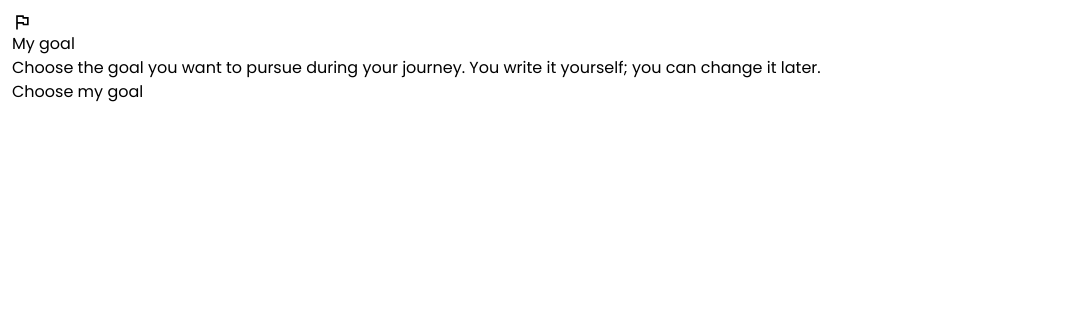
Test case: Carte Mon objectif › échec d’enregistrement : message clair
The image size is (1084, 319).
Click the button "Choose my goal" at (78, 92), box [12, 80, 143, 104]
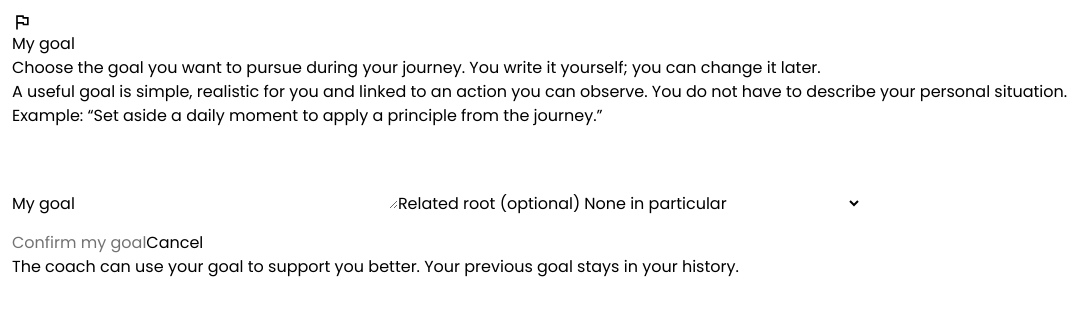
Type "Read every morning" into the text box labelled "My goal" at (236, 168), box [75, 128, 398, 209]
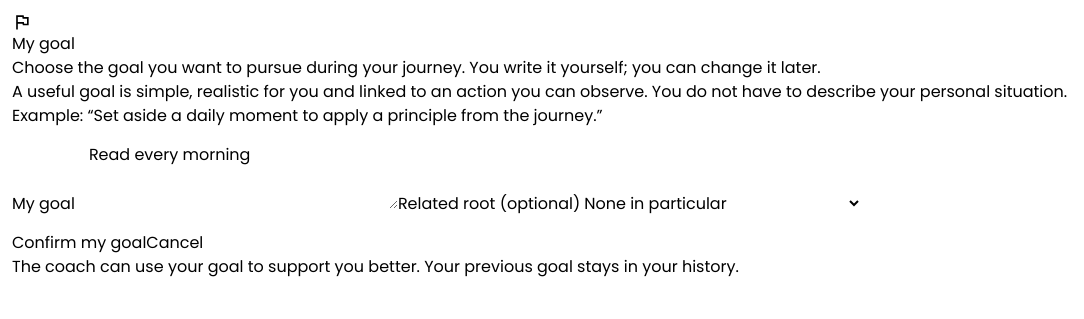
Click the button "Confirm my goal" at (79, 243), box [12, 231, 146, 255]
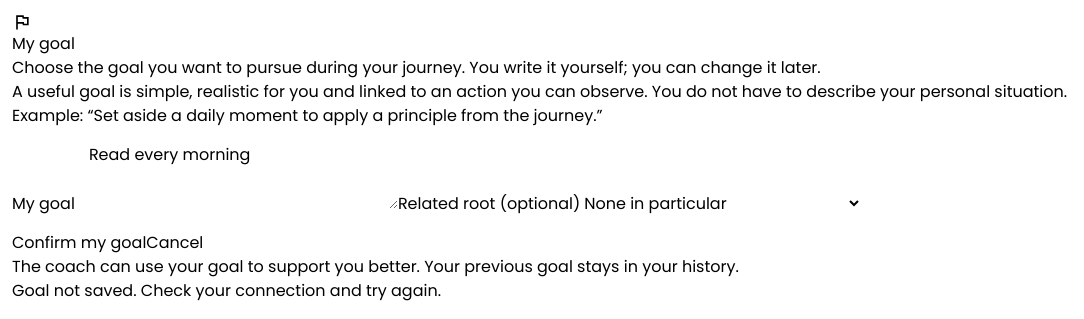
Result: the text "Goal not saved. Check your connection and try again." is shown at [12, 279, 441, 302]
